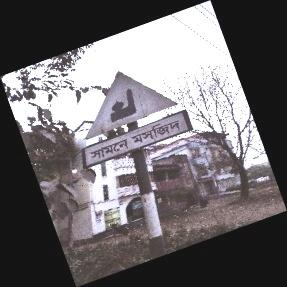Mosque in front: (81, 72, 191, 171)
